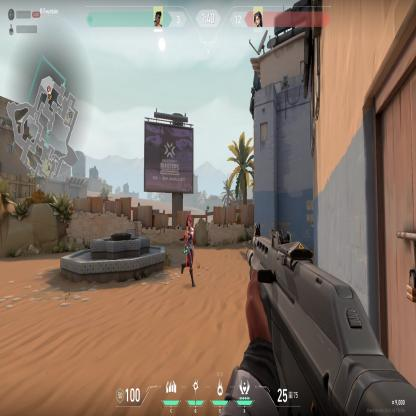enemy: (179, 212, 197, 287)
